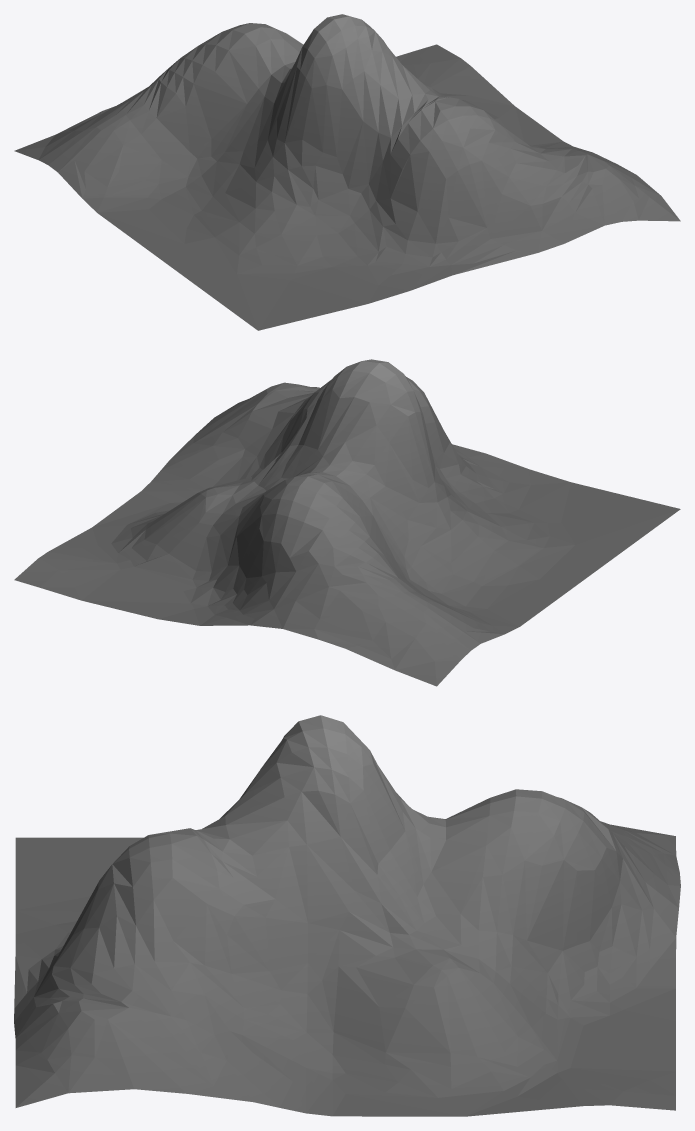
The model's file is Model_Mountain2.FBX.
3 views of the same model, one above another, from view 1: azimuth 30°, elevation 25°; view 2: azimuth 150°, elevation 25°; view 3: azimuth 270°, elevation 25° (orthographic). The views are drawn at different scales.
Parts seen in each view (by area): view 1: Plane001; view 2: Plane001; view 3: Plane001.
Part boxes in pixels (x1,y1,x2,y2): Plane001: (14, 14, 680, 330); Plane001: (14, 359, 680, 686); Plane001: (14, 715, 680, 1116).
Bounding box in the file's own units: 15001 × 6193 × 15150.
